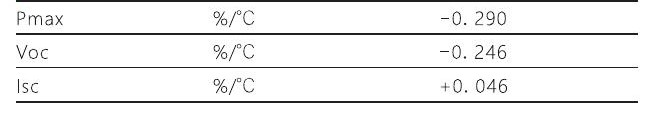table: (1, 1, 654, 112)
table column: (14, 2, 185, 106), (193, 1, 328, 106), (423, 1, 540, 106)
table row: (6, 3, 651, 32), (6, 37, 651, 66), (5, 72, 652, 100)
